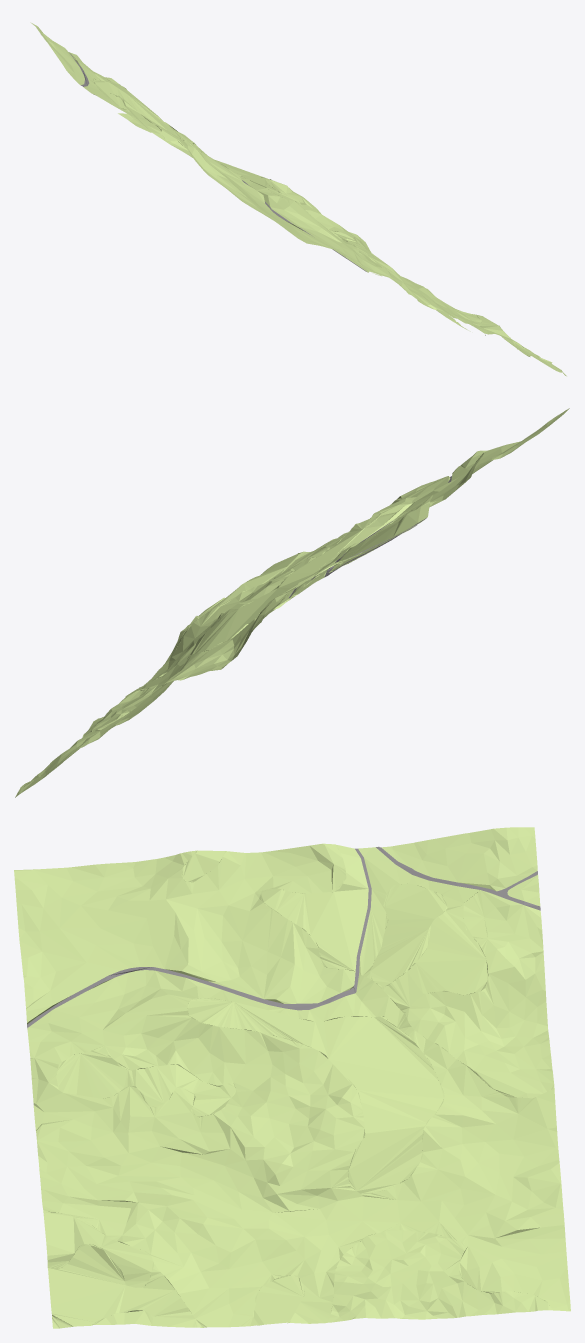
The picture shows the model from 3 angles, top to bottom: view 1: azimuth 30°, elevation 25°; view 2: azimuth 150°, elevation 25°; view 3: azimuth 270°, elevation 25°; orthographic projection. The views are drawn at different scales.
Bounding box in the file's own units: 210 × 174 × 267.
